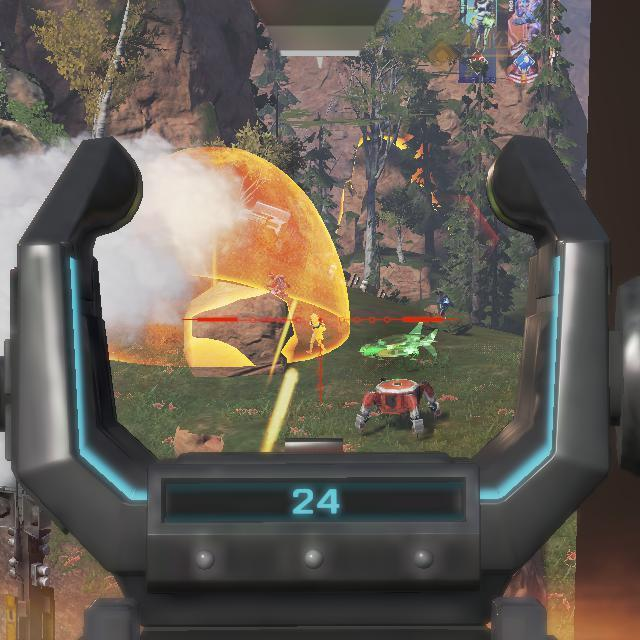avatar: (305, 311, 327, 356)
